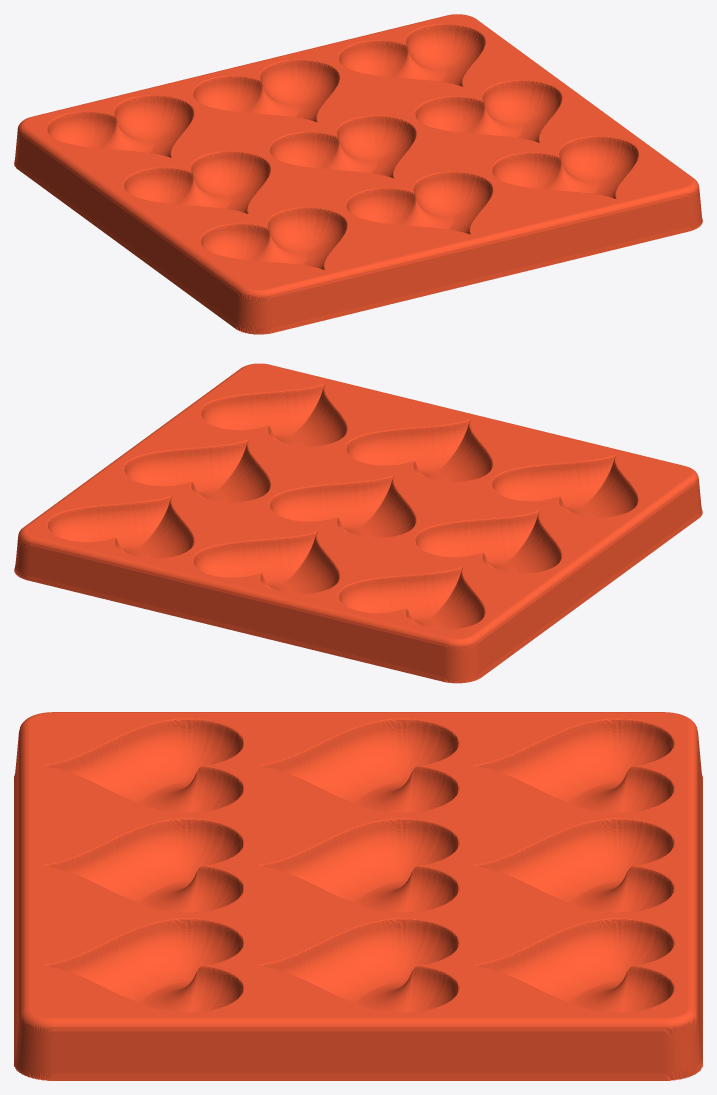
The model's file is mold.glb.
3 renders of one model, top to bottom at view 1: azimuth 30°, elevation 25°; view 2: azimuth 150°, elevation 25°; view 3: azimuth 270°, elevation 25°, orthographic. The views are drawn at different scales.
Visible parts, largest first — view 1: geometry_0; view 2: geometry_0; view 3: geometry_0.
Boxes of the visible parts, x1=… form: geometry_0: x1=14, y1=14, x2=702, y2=334; geometry_0: x1=14, y1=363, x2=702, y2=683; geometry_0: x1=14, y1=712, x2=702, y2=1080.
Bounding box in the file's own units: 0.1749 × 0.0145 × 0.1603.
